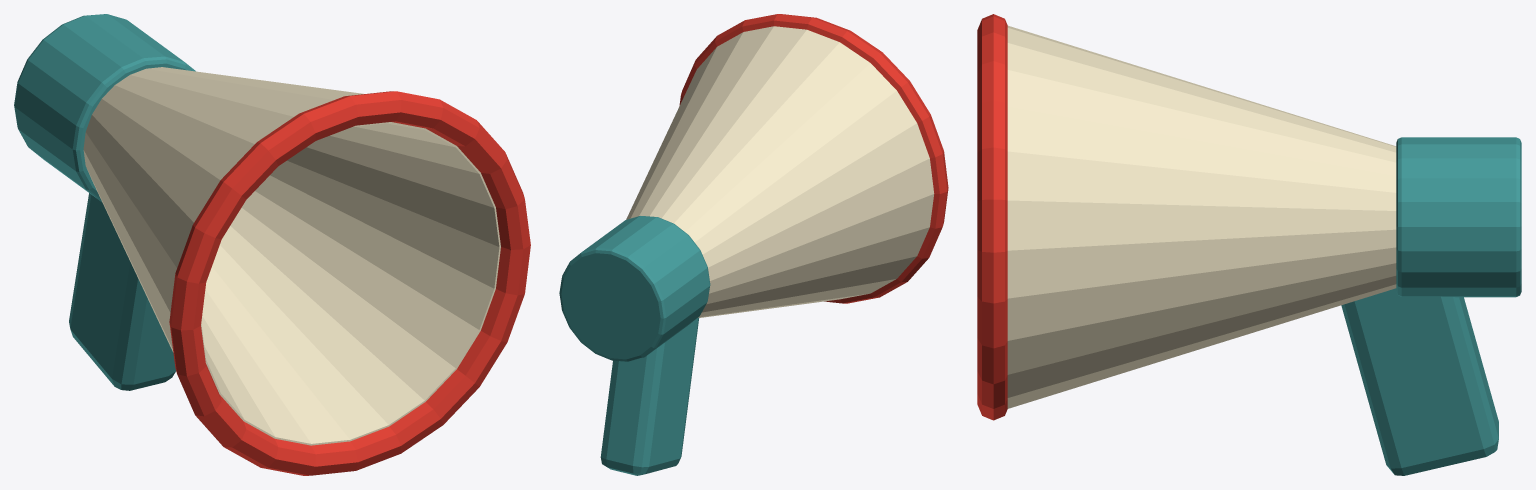
The model's file is P052_megaphone.glb.
The picture shows the model from 3 angles, left to right: view 1: azimuth 30°, elevation 25°; view 2: azimuth 150°, elevation 25°; view 3: azimuth 270°, elevation 25°; orthographic projection. The views are drawn at different scales.
Visible parts, largest first — view 1: P052_horn_001, P052_rim_004, P052_speaker_core_002, P052_handle_003; view 2: P052_horn_001, P052_speaker_core_002, P052_handle_003, P052_rim_004; view 3: P052_horn_001, P052_handle_003, P052_speaker_core_002, P052_rim_004.
Part boxes in pixels (bbox=[...]): P052_horn_001: bbox=[83, 67, 500, 445]; P052_rim_004: bbox=[169, 91, 530, 475]; P052_speaker_core_002: bbox=[14, 14, 195, 201]; P052_handle_003: bbox=[69, 193, 175, 390]; P052_horn_001: bbox=[626, 26, 934, 317]; P052_speaker_core_002: bbox=[559, 216, 710, 361]; P052_handle_003: bbox=[600, 317, 699, 475]; P052_rim_004: bbox=[679, 14, 948, 303]; P052_horn_001: bbox=[1007, 25, 1396, 408]; P052_handle_003: bbox=[1341, 288, 1498, 475]; P052_speaker_core_002: bbox=[1396, 137, 1521, 297]; P052_rim_004: bbox=[977, 14, 1007, 420].
Size of the model in its own units: 0.228 by 0.2678 by 0.304.
